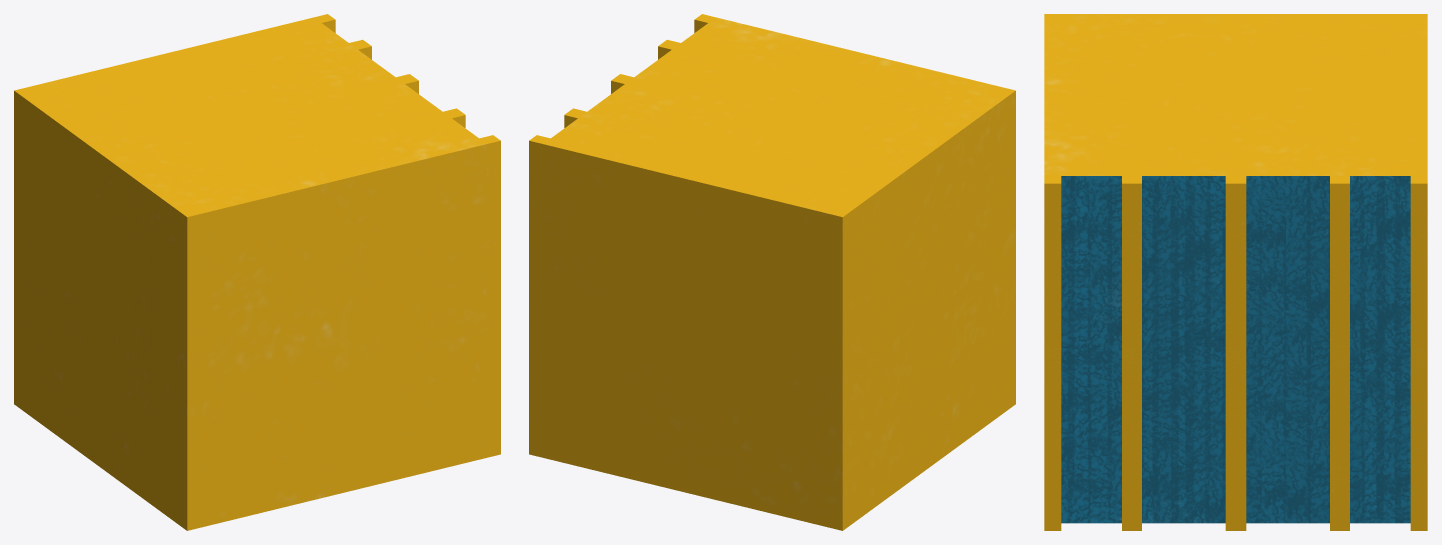
The model's file is building_3.fbx.
3 views of the same model, side by side, from view 1: azimuth 30°, elevation 25°; view 2: azimuth 150°, elevation 25°; view 3: azimuth 270°, elevation 25° (orthographic). The views are drawn at different scales.
Visible parts, largest first — view 1: tamanho base.003; view 2: tamanho base.003; view 3: tamanho base.003.
Part boxes in pixels (<box>): tamanho base.003: <box>14,14,500,530</box>; tamanho base.003: <box>529,14,1015,530</box>; tamanho base.003: <box>1044,14,1427,530</box>.
Bounding box in the file's own units: 208 × 199 × 199.
3 materials, 3 textured.
